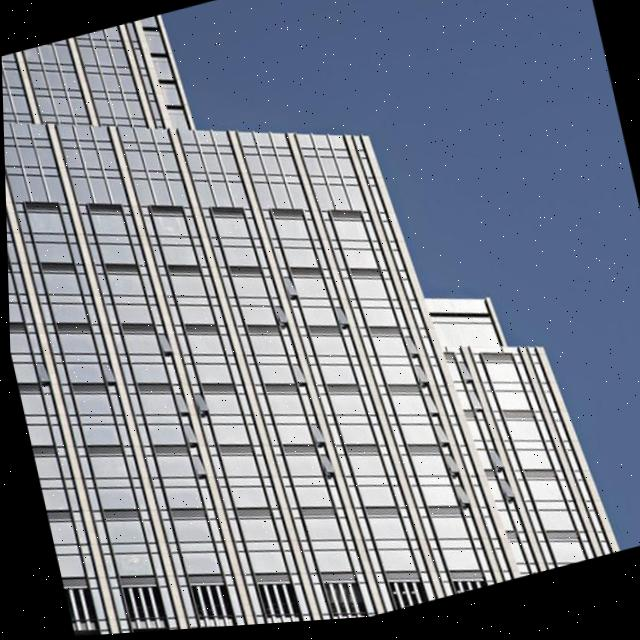building: (0, 0, 625, 640)
